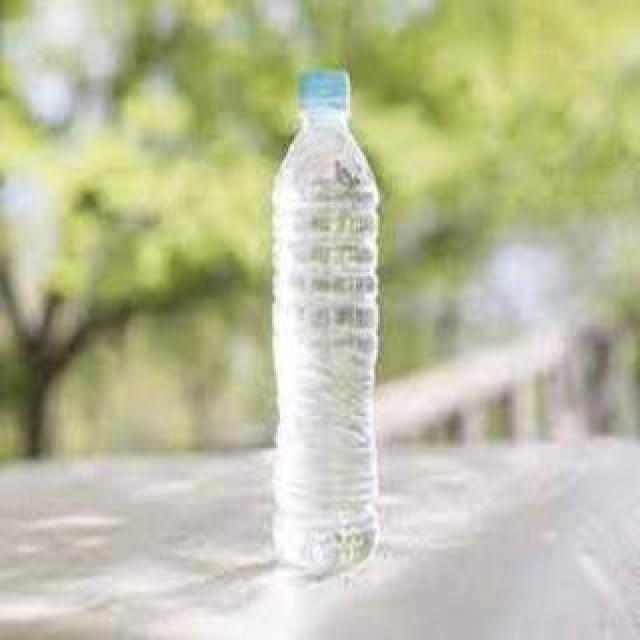Pet_Bottle: (271, 66, 383, 580)
